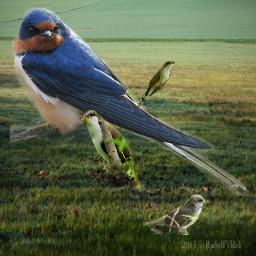Cuckoo: (77, 110, 146, 193), (143, 194, 210, 235), (138, 61, 175, 107)
Swallow: (10, 7, 249, 196)
